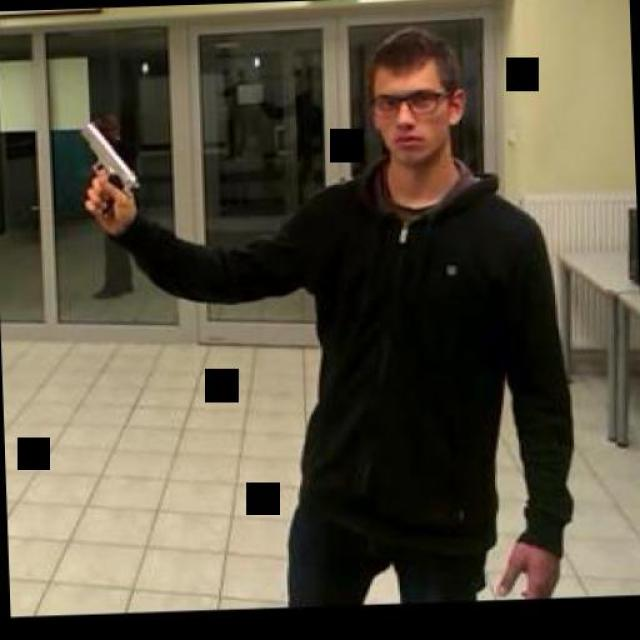gun: (71, 115, 141, 219)
